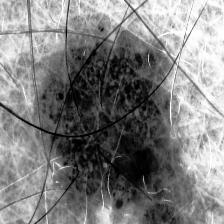Benign Marking or Mole: (38, 30, 199, 224)
